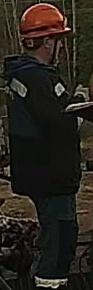gloves: (72, 84, 93, 114)
helmet: (18, 2, 72, 39)
vest: (2, 53, 81, 197)
